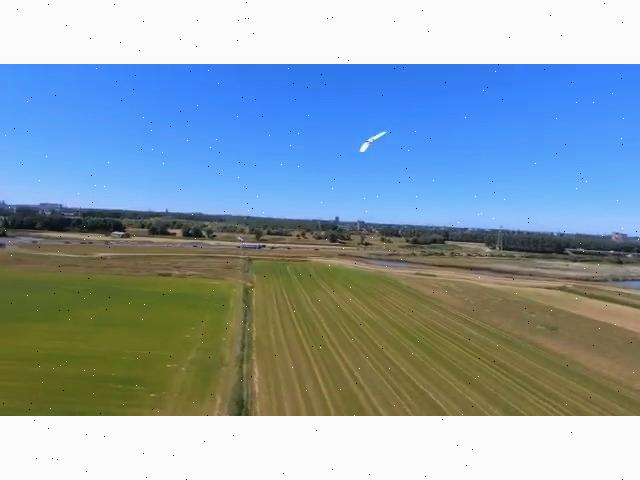Anti-Drone: (350, 124, 394, 154)
